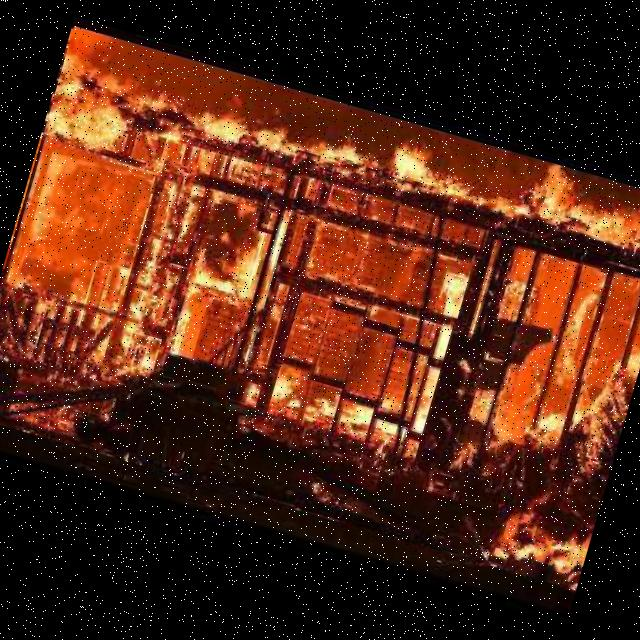fire: (0, 25, 640, 590)
